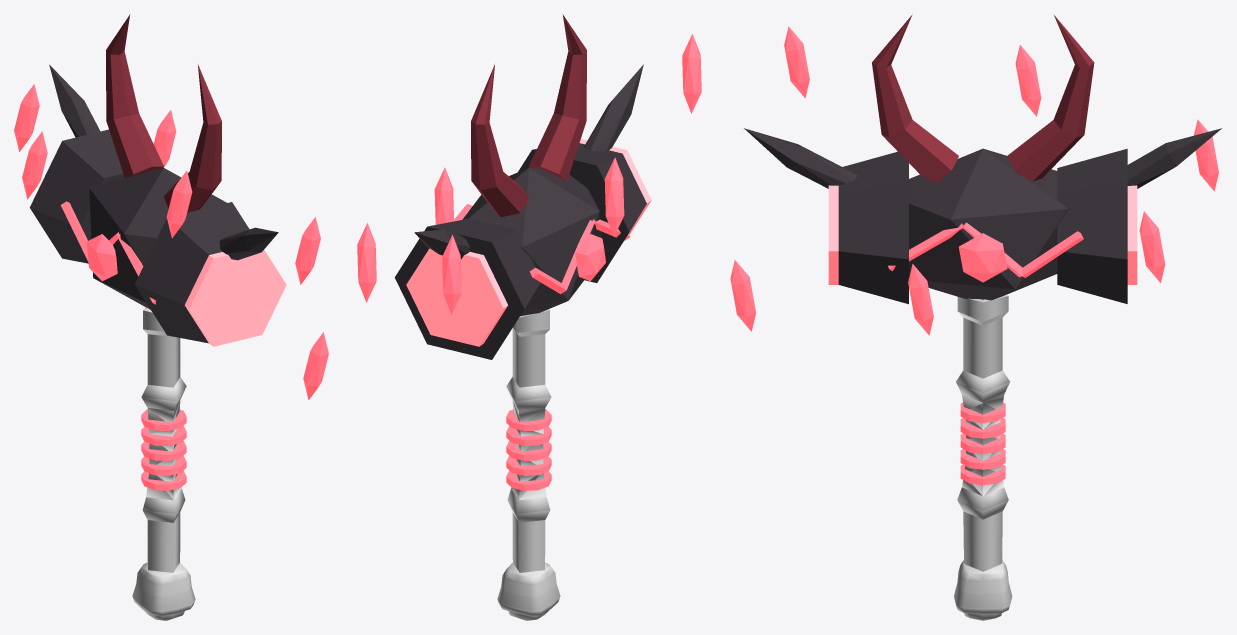
Rendered from hammer_mythic.glb.
3 views of the same model, side by side, from view 1: azimuth 30°, elevation 25°; view 2: azimuth 150°, elevation 25°; view 3: azimuth 270°, elevation 25° (orthographic). The views are drawn at different scales.
Parts seen in each view (by area): view 1: hammer_mythic_export; view 2: hammer_mythic_export; view 3: hammer_mythic_export.
Part boxes in pixels (x1,y1,x2,y2): hammer_mythic_export: (14,14,328,620); hammer_mythic_export: (357,14,701,620); hammer_mythic_export: (730,14,1221,620).
Bounding box in the file's own units: 74.02 × 171 × 126.
